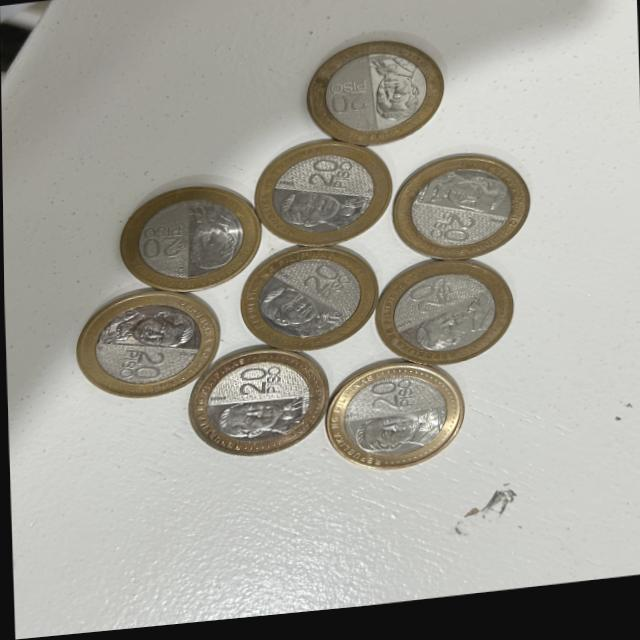20_New_Front: (396, 274, 461, 330), (329, 68, 373, 150), (113, 338, 177, 393), (218, 358, 285, 406), (358, 381, 425, 426), (293, 260, 350, 309), (298, 161, 361, 203), (423, 210, 476, 259), (130, 226, 180, 274)
